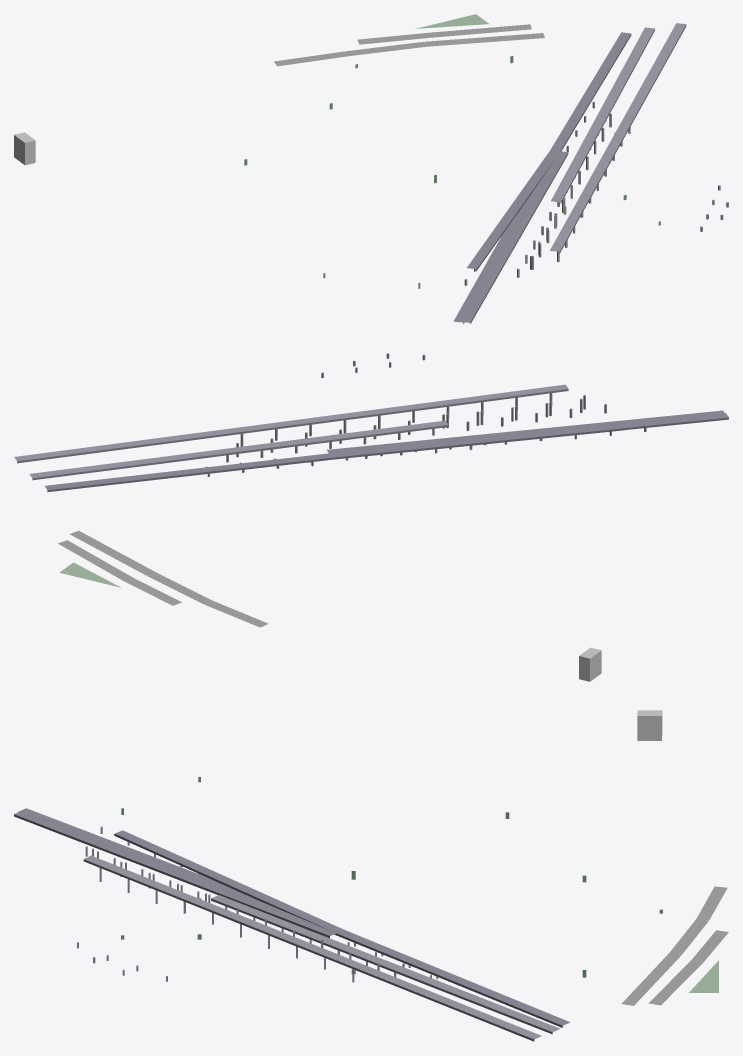
The picture shows the model from 3 angles, top to bottom: view 1: azimuth 30°, elevation 25°; view 2: azimuth 150°, elevation 25°; view 3: azimuth 270°, elevation 25°; orthographic projection. The views are drawn at different scales.
Bounding box in the file's own units: 614 × 25.78 × 557.
